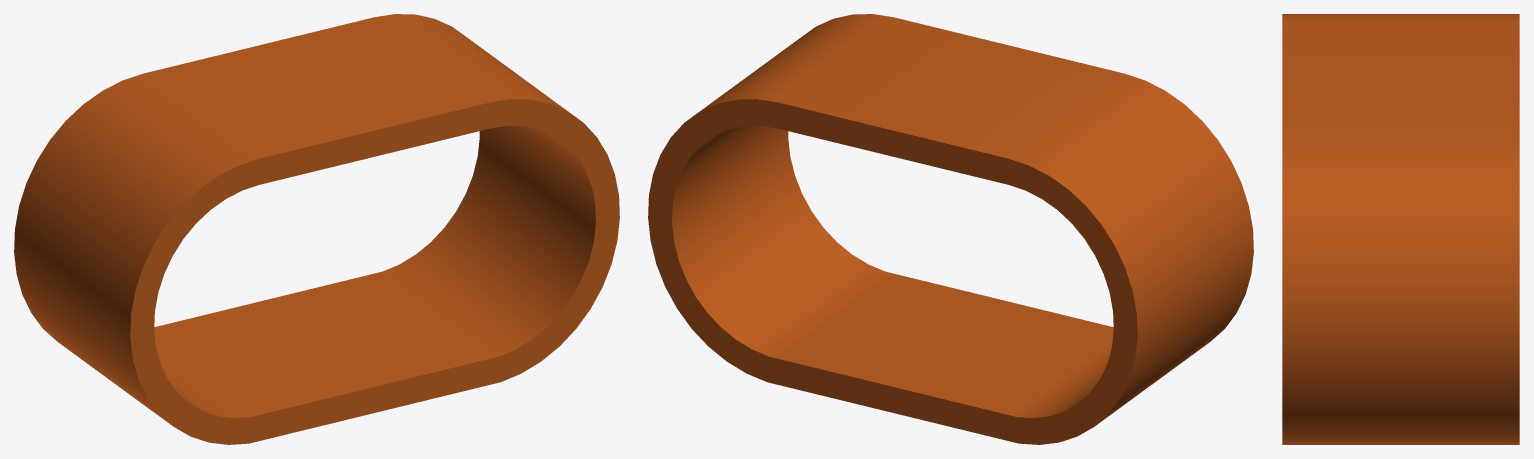
The model's file is rounded rectangle table copper.glb.
3 views of the same model, side by side, from view 1: azimuth 30°, elevation 25°; view 2: azimuth 150°, elevation 25°; view 3: azimuth 270°, elevation 25° (orthographic). The views are drawn at different scales.
Visible parts, largest first — view 1: rounded table copper; view 2: rounded table copper; view 3: rounded table copper.
Part boxes in pixels (bbox=[...]): rounded table copper: bbox=[14, 14, 619, 444]; rounded table copper: bbox=[648, 14, 1253, 444]; rounded table copper: bbox=[1282, 14, 1519, 444].
Size of the model in its own units: 1.7 by 0.9385 by 0.7.
